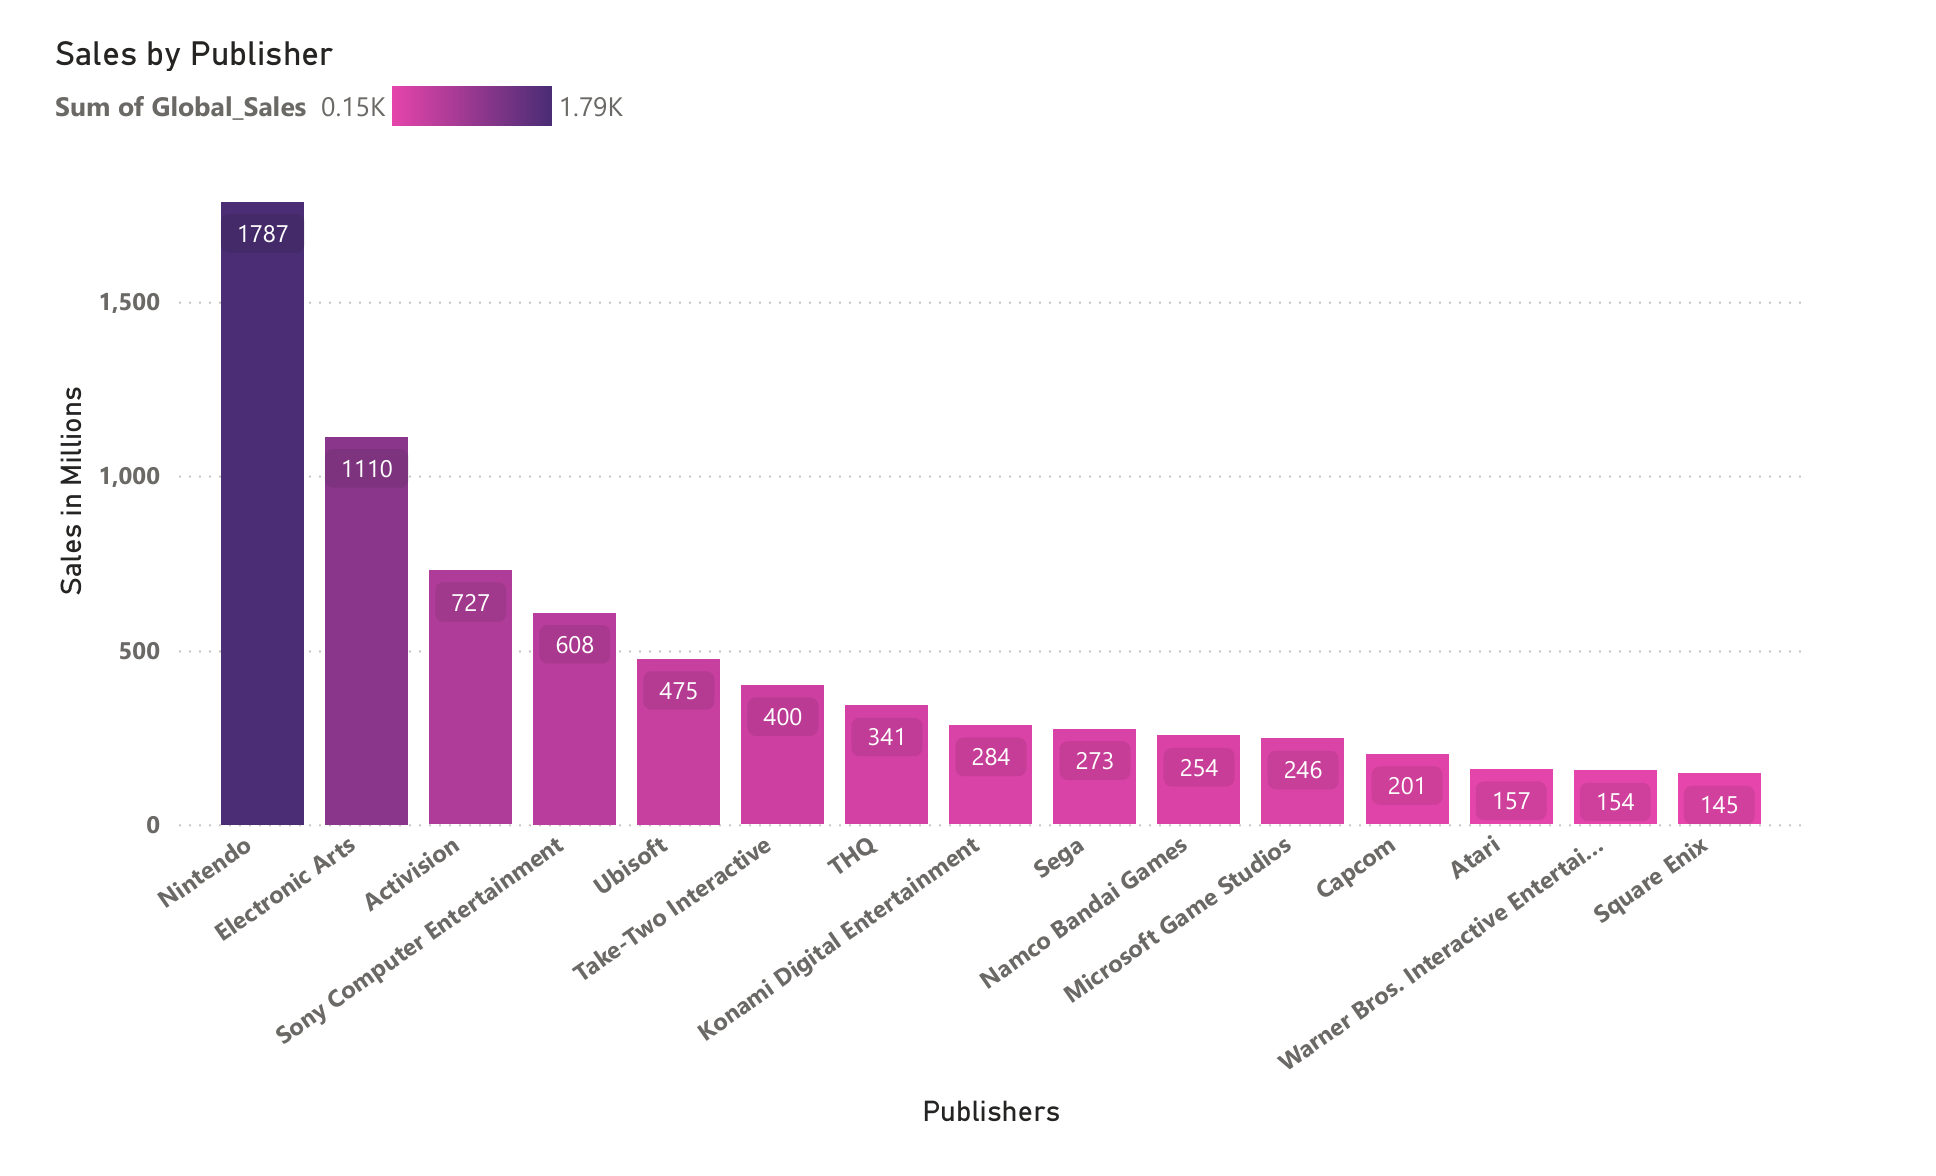

The page's visual inventory and layout, read from the dashboard file:
{"tool":"powerbi","page":{"name":"Page 2","canvas":[1280,720],"ordinal":1},"visuals":[{"type":"clusteredColumnChart","title":"Sales by Publisher","fields":{"Y":["Sum(vgsales.Global_Sales)"],"Category":["vgsales.Publisher"]},"box":[10,0,884,552],"z":0}]}

Visuals, with their boxes on the page's 1280x720 design canvas (x1, y1, x2, y2). These are canvas units, not pixel positions in the 1936x1176 screenshot, which may show the page scaled, cropped or inside an application window:
"Sales by Publisher" clusteredColumnChart: [10,0,894,552]
